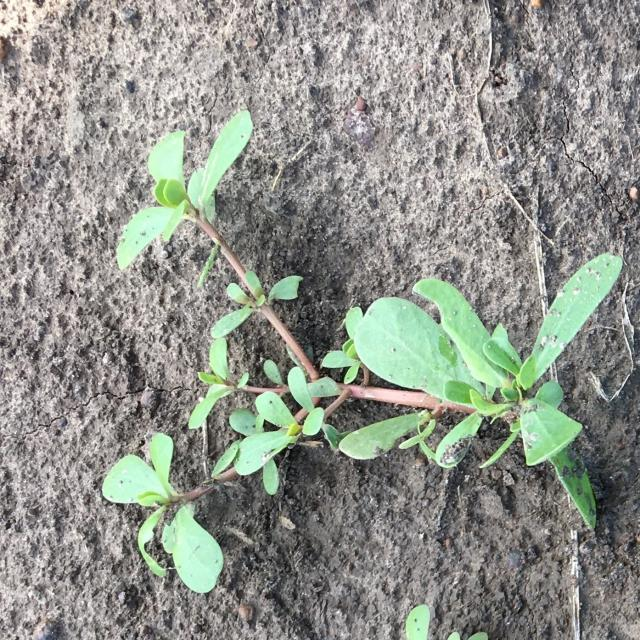Purslane: (102, 110, 622, 593)
